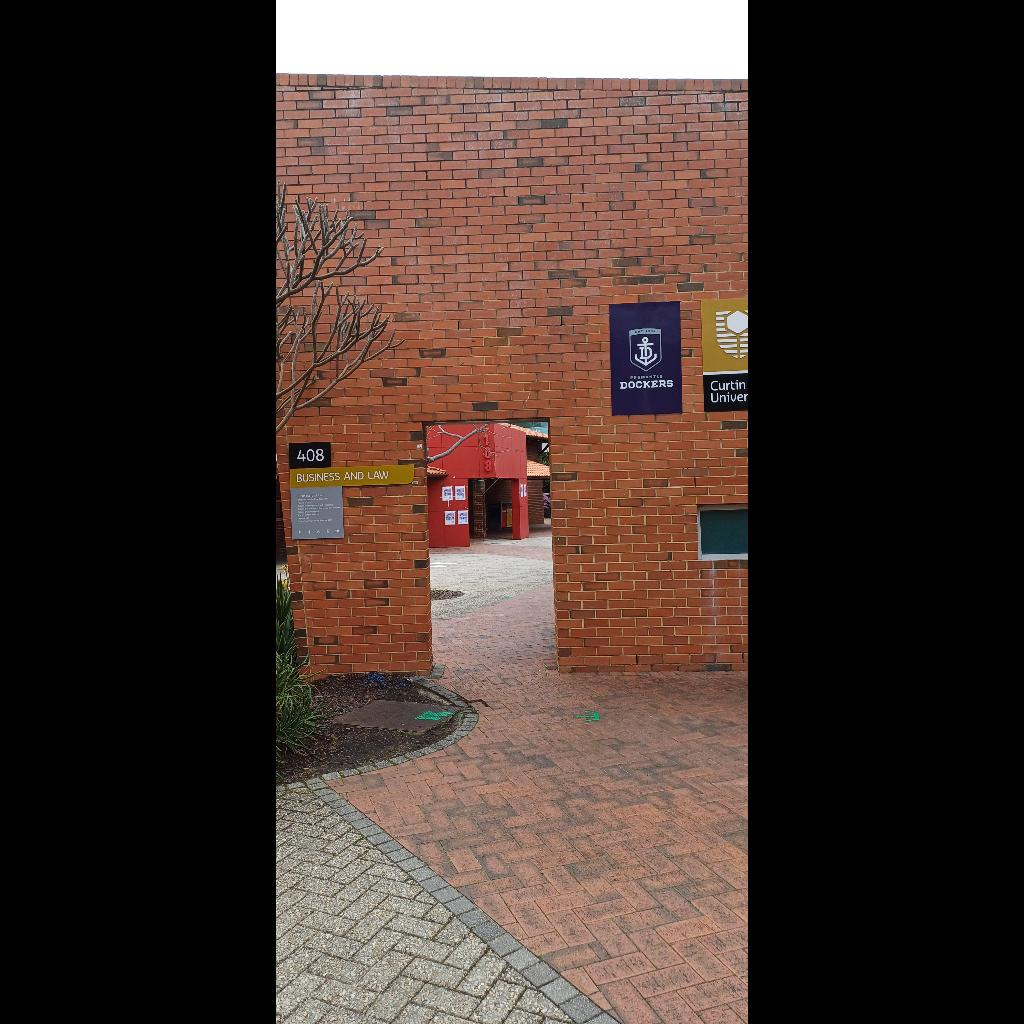BuildingCodes: (296, 448, 326, 462)
